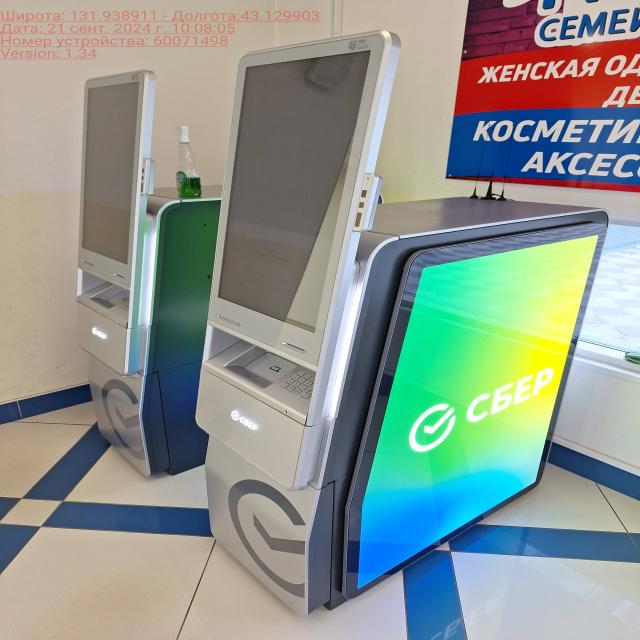bank: (208, 35, 579, 607), (69, 67, 208, 469)
